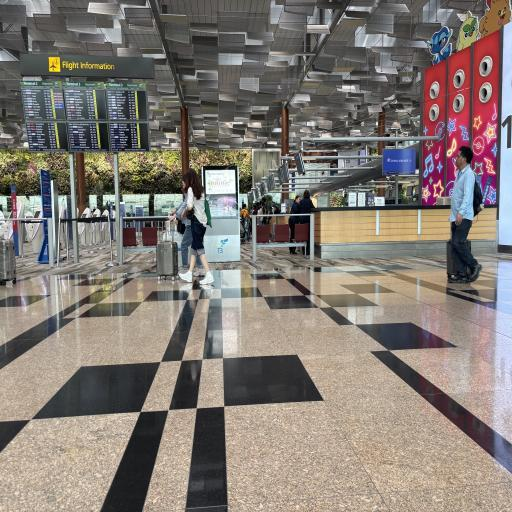person_with_luggage_left: (442, 141, 484, 289)
